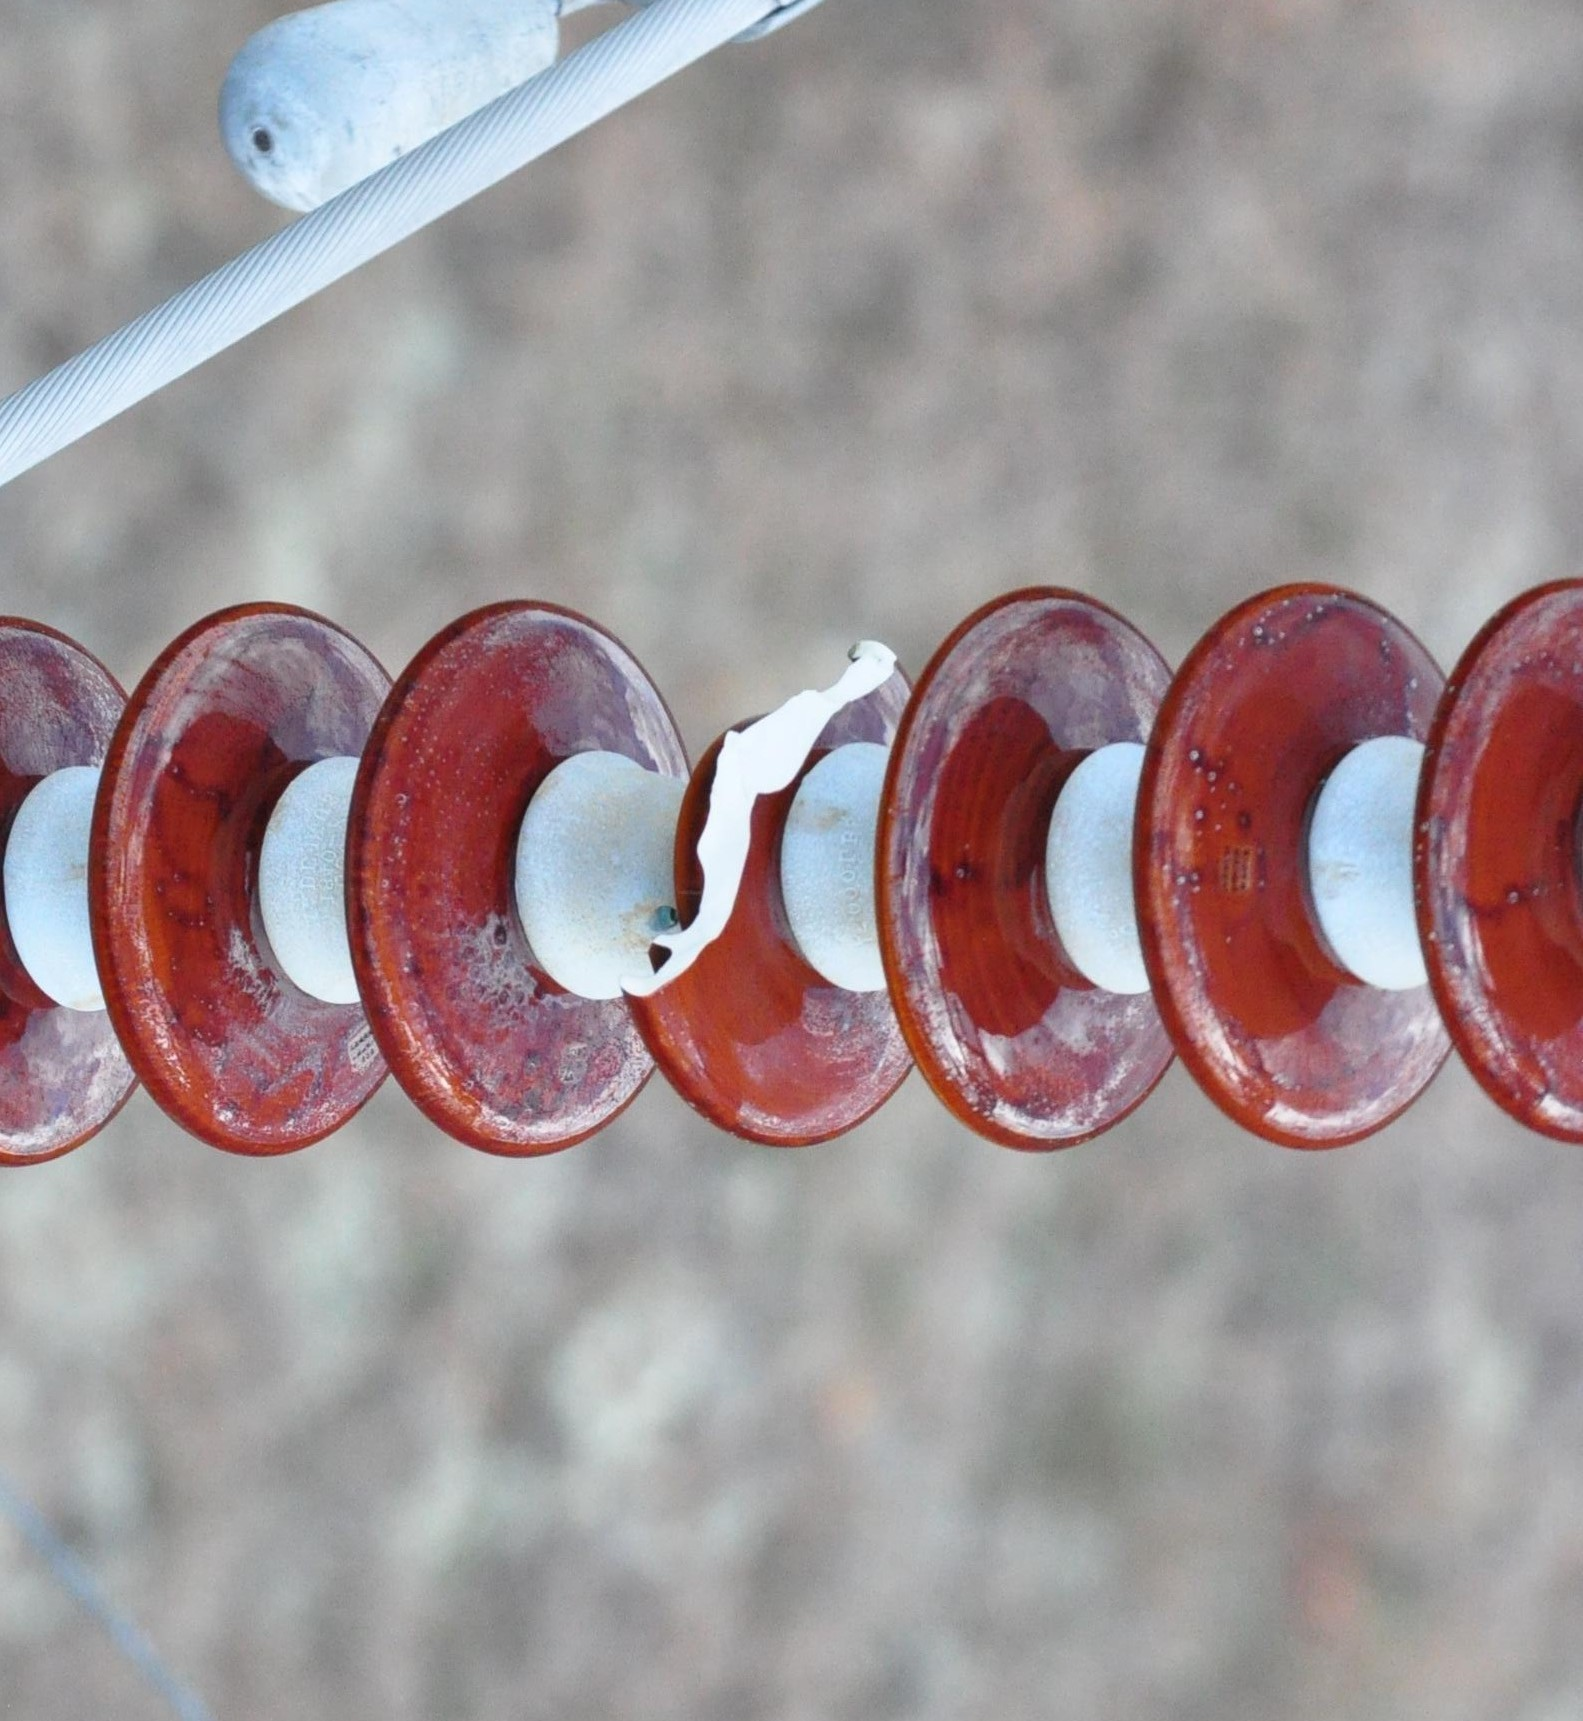insulator breakage: (607, 588, 916, 1156)
